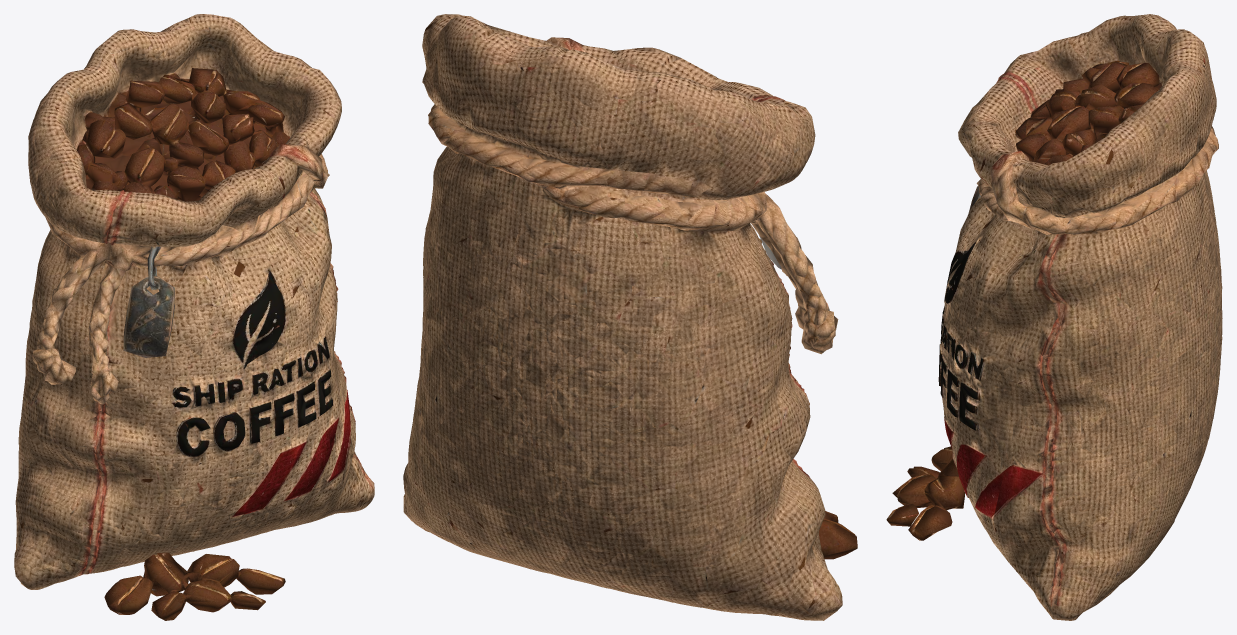
File: coffee_sack.glb
The picture shows the model from 3 angles, left to right: view 1: azimuth 30°, elevation 25°; view 2: azimuth 150°, elevation 25°; view 3: azimuth 270°, elevation 25°; orthographic projection. The views are drawn at different scales.
Parts seen in each view (by area): view 1: coffee_sack; view 2: coffee_sack; view 3: coffee_sack.
Part boxes in pixels (box(x1,y1,x2,y2)): coffee_sack: box(14, 14, 374, 620); coffee_sack: box(403, 14, 857, 620); coffee_sack: box(886, 14, 1222, 620).
Size of the model in its own units: 1.5 by 1.9 by 1.17.
Materials: 1 (1 with a texture image).
